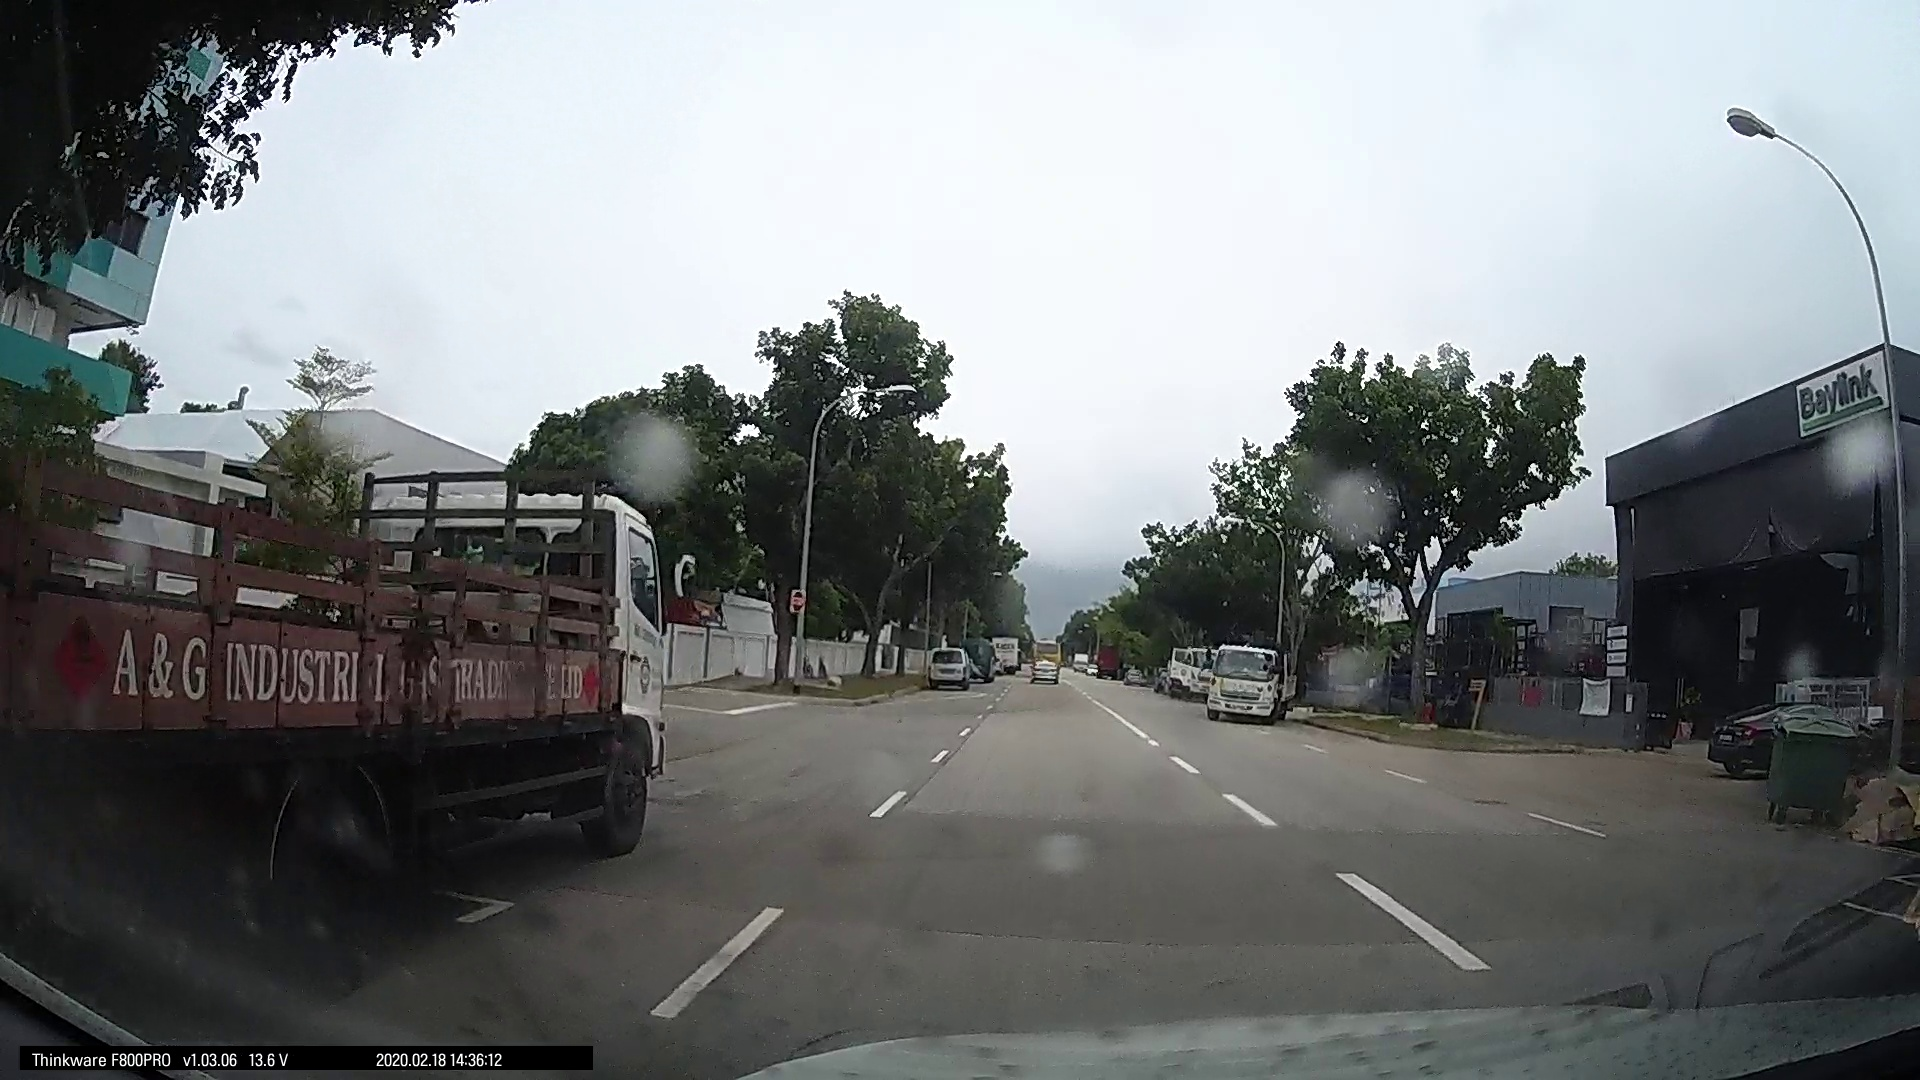Heavy Vehicle: (28, 458, 684, 911)
Light Vehicle: (1197, 640, 1283, 723), (920, 640, 977, 690), (1156, 647, 1203, 698), (1022, 644, 1058, 680)
